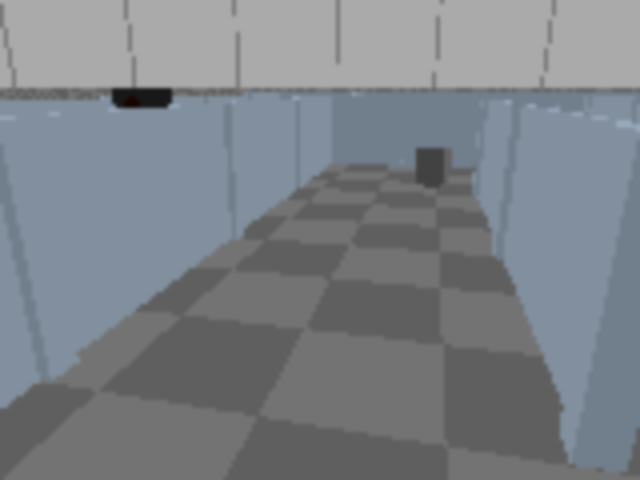obstacle: (415, 146, 452, 188)
